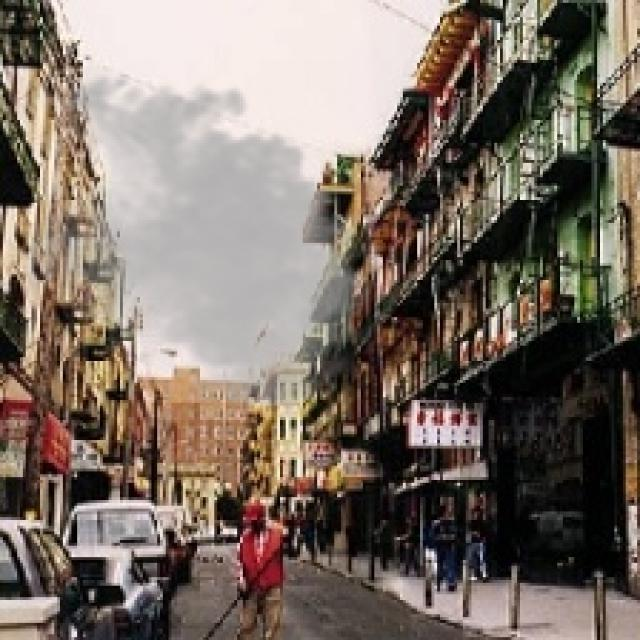smoke: (26, 63, 383, 417)
